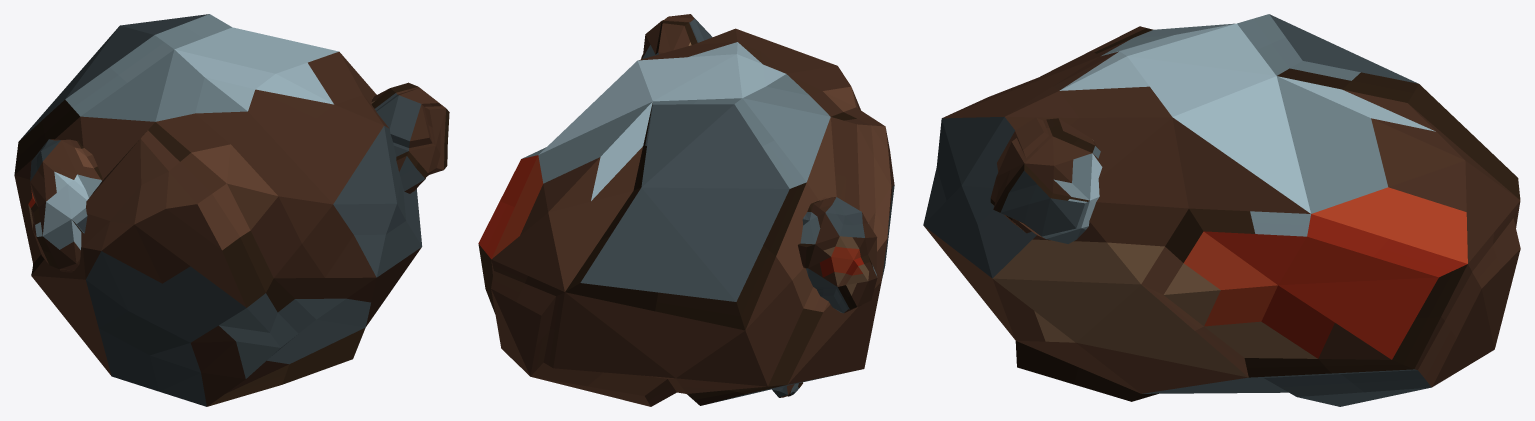
The model's file is Asteroid3.fbx.
The picture shows the model from 3 angles, left to right: view 1: azimuth 30°, elevation 25°; view 2: azimuth 150°, elevation 25°; view 3: azimuth 270°, elevation 25°; orthographic projection. The views are drawn at different scales.
Parts seen in each view (by area): view 1: Asteroid3; view 2: Asteroid3; view 3: Asteroid3.
Boxes of the visible parts, <box> form: Asteroid3: <box>14,14,449,406</box>; Asteroid3: <box>478,14,894,406</box>; Asteroid3: <box>923,14,1520,406</box>.
Size of the model in its own units: 995 by 875 by 1313.
